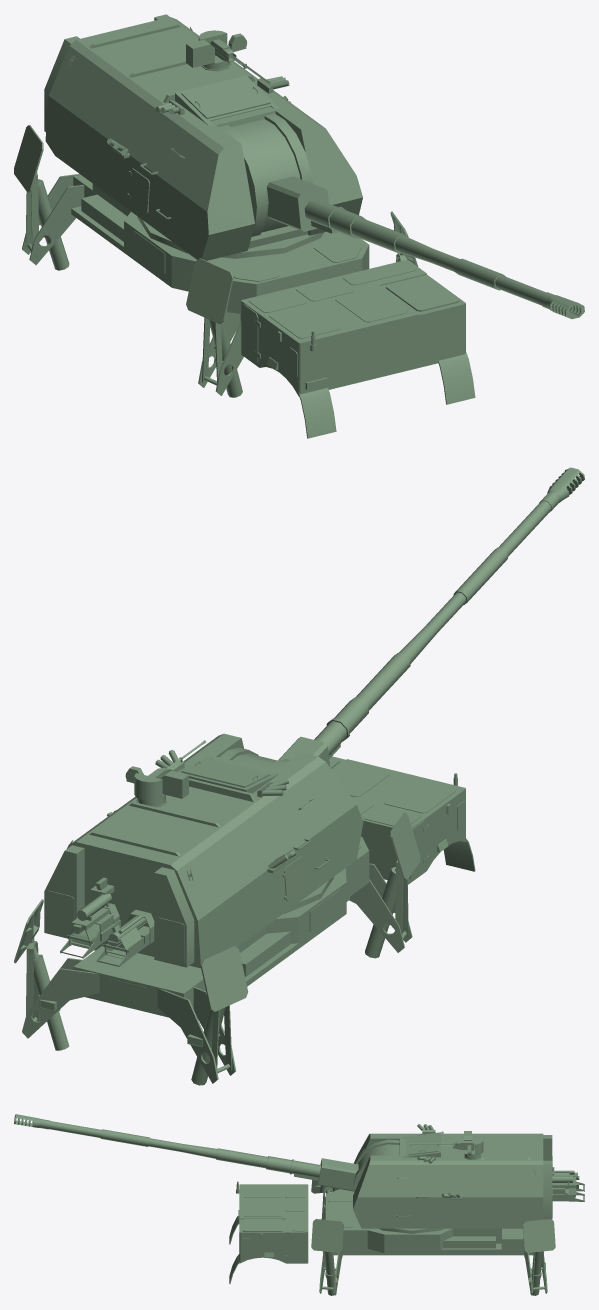
File: Koalitsiya.fbx
3 renders of one model, top to bottom at view 1: azimuth 30°, elevation 25°; view 2: azimuth 150°, elevation 25°; view 3: azimuth 270°, elevation 25°, orthographic. The views are drawn at different scales.
Parts seen in each view (by area): view 1: KoalitsiyaTurret_LOD0, KoalitsiyaHull_LOD0, Cannon_LOD0, MG_LOD0; view 2: KoalitsiyaTurret_LOD0, KoalitsiyaHull_LOD0, Cannon_LOD0, MG_LOD0; view 3: KoalitsiyaTurret_LOD0, KoalitsiyaHull_LOD0, Cannon_LOD0, MG_LOD0.
Boxes of the visible parts, x1,y1,x2,y2 form: KoalitsiyaTurret_LOD0: (44,14,362,260); KoalitsiyaHull_LOD0: (14,125,475,438); Cannon_LOD0: (266,176,584,319); MG_LOD0: (186,30,270,84); KoalitsiyaTurret_LOD0: (44,733,363,967); KoalitsiyaHull_LOD0: (14,756,475,1085); Cannon_LOD0: (278,467,584,767); MG_LOD0: (125,740,206,806); KoalitsiyaTurret_LOD0: (353,1124,584,1233); KoalitsiyaHull_LOD0: (229,1180,555,1295); Cannon_LOD0: (14,1114,358,1191); MG_LOD0: (410,1131,483,1158).
Size of what is drawn, in the model's own units: 7.59 by 9.05 by 29.36.
